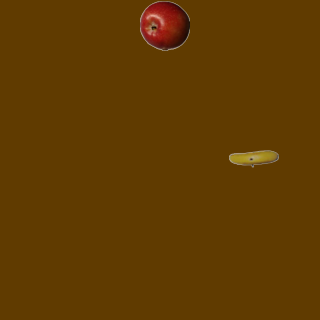Apple Braeburn: (139, 0, 189, 50)
Banana: (228, 133, 278, 183)
